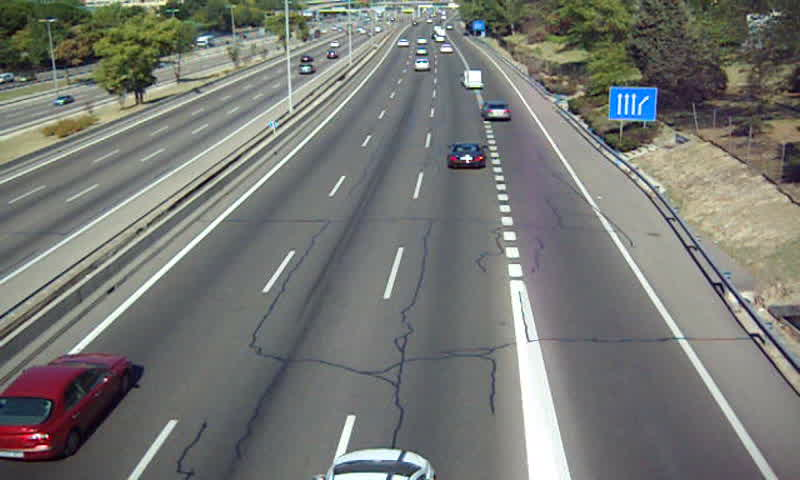car: (1, 354, 132, 462), (447, 144, 487, 169), (481, 101, 511, 122), (414, 58, 430, 71)
van: (462, 69, 483, 88)
